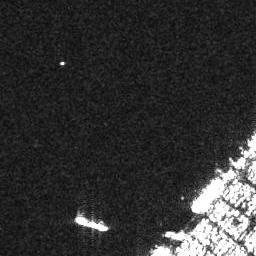ship: (185, 178, 223, 212), (73, 214, 109, 233), (163, 228, 187, 243)
